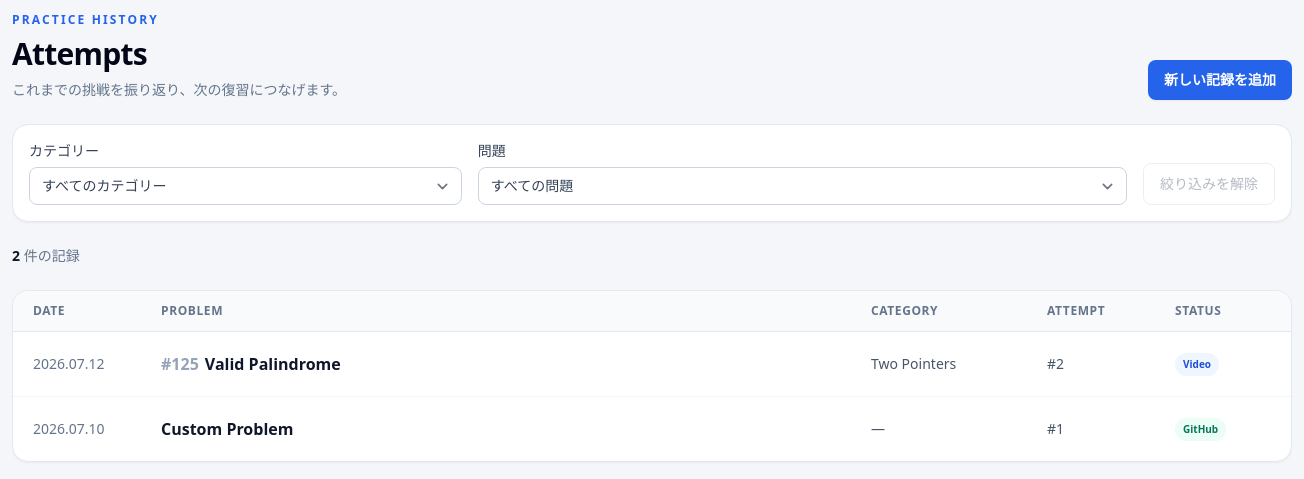
Test: AttemptListPage › requests filtered data when a category is selected
Select "Two Pointers" in the dropdown labelled "カテゴリー". click: (245,186)
box: x1=29 y1=167 x2=462 y2=205
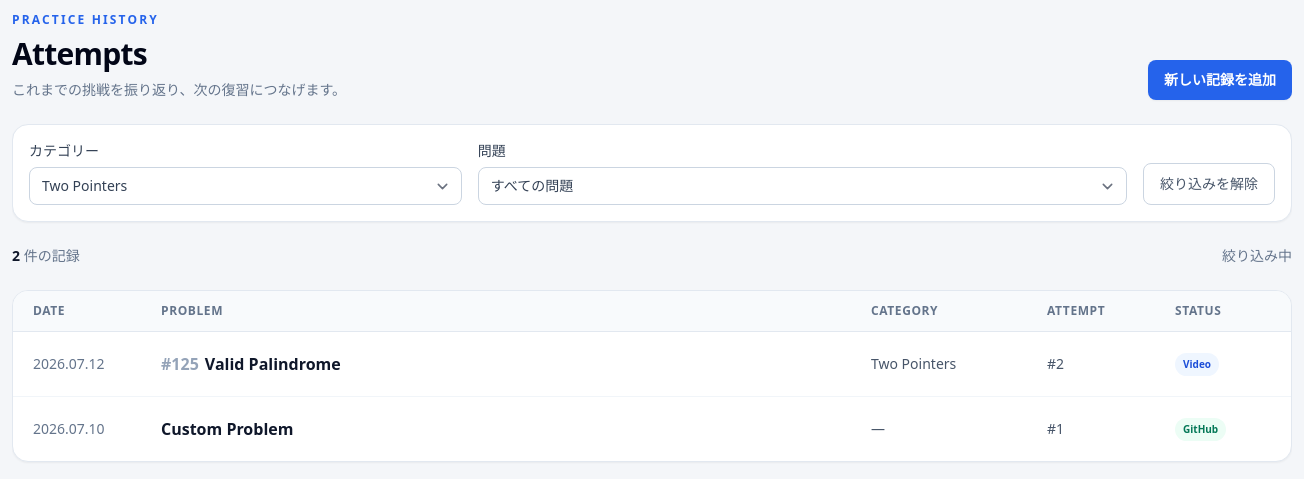
Expected: the text "絞り込み中" is shown, x1=1222 y1=246 x2=1292 y2=266
